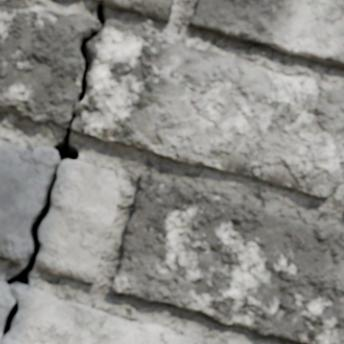brick: (113, 175, 343, 343), (190, 0, 343, 67)
broken_brick: (73, 18, 343, 198), (0, 286, 226, 343), (0, 0, 97, 128), (36, 160, 120, 284), (0, 140, 56, 264), (86, 0, 175, 24), (0, 279, 13, 323)
crack: (0, 2, 106, 341), (180, 332, 189, 339)
